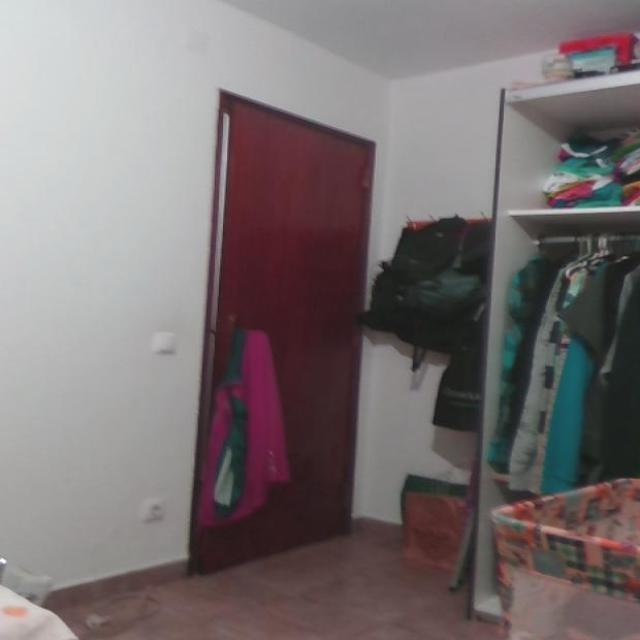door: (186, 87, 376, 575)
